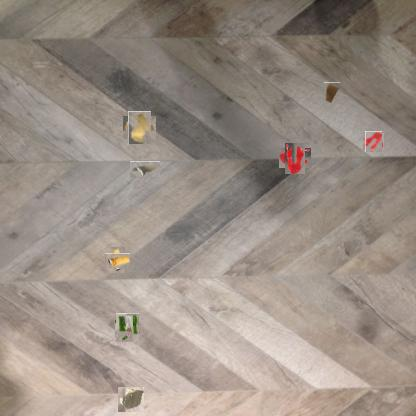dirty: (126, 114, 154, 142), (114, 315, 141, 341), (118, 386, 144, 412), (130, 161, 160, 178), (107, 250, 128, 271), (324, 82, 340, 103)
liquid: (282, 146, 308, 172), (364, 132, 383, 151)
